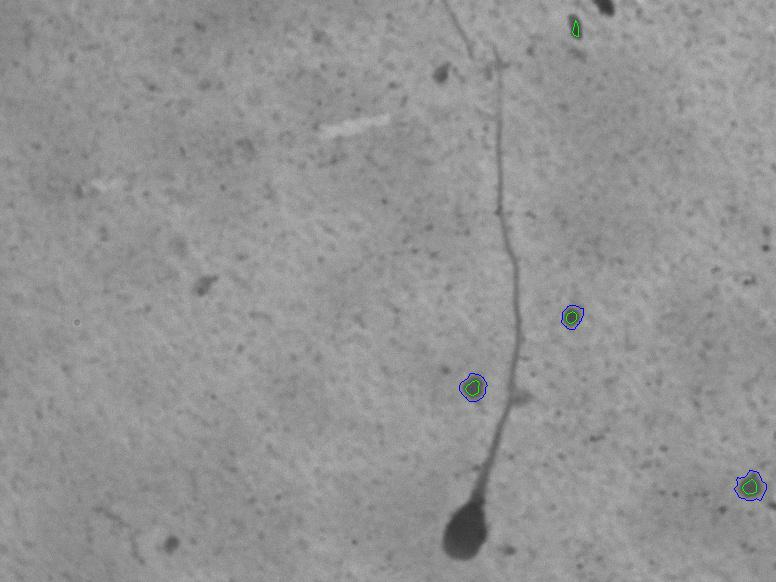Normal: (411, 63, 572, 564)
